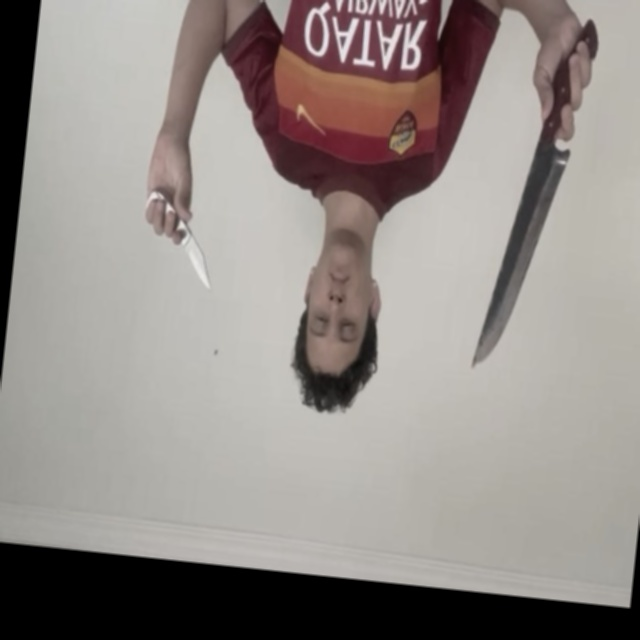Sharp-Object: (471, 142, 570, 379), (181, 236, 215, 294)
